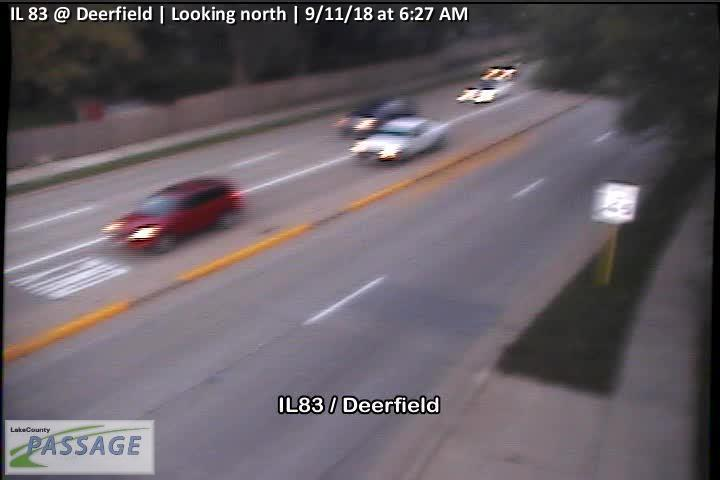SUV: (103, 176, 243, 254)
Sedan: (348, 116, 446, 164), (333, 97, 419, 141)
